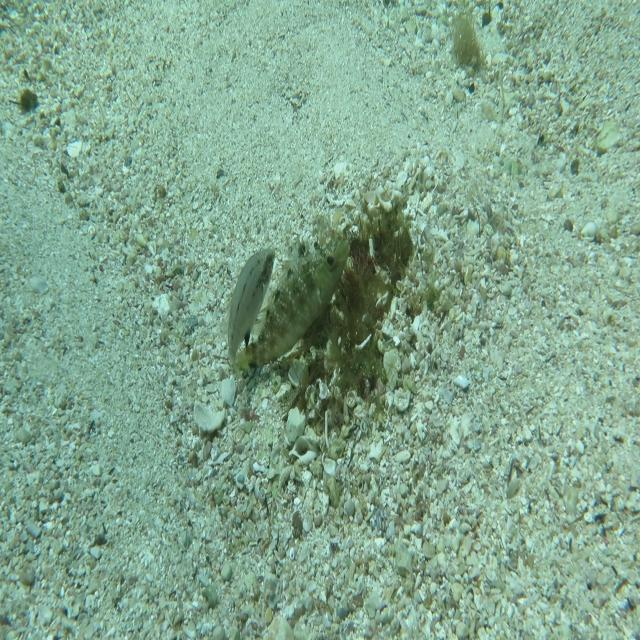FAN: (234, 230, 352, 382)
core_nest: (349, 222, 397, 278)
female: (223, 246, 276, 396)
nest: (272, 161, 432, 427)
